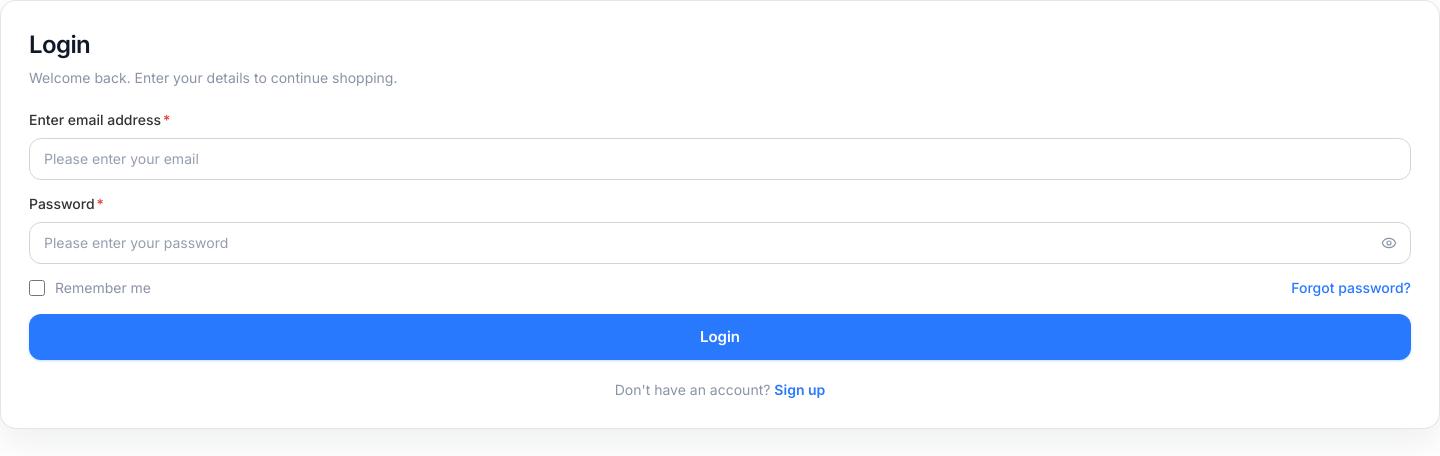
Test case: LoginForm › logs in successfully and updates auth store
Type "john@example.com" into the field labelled "Enter email address*" at (720, 159), box [29,138,1411,180]
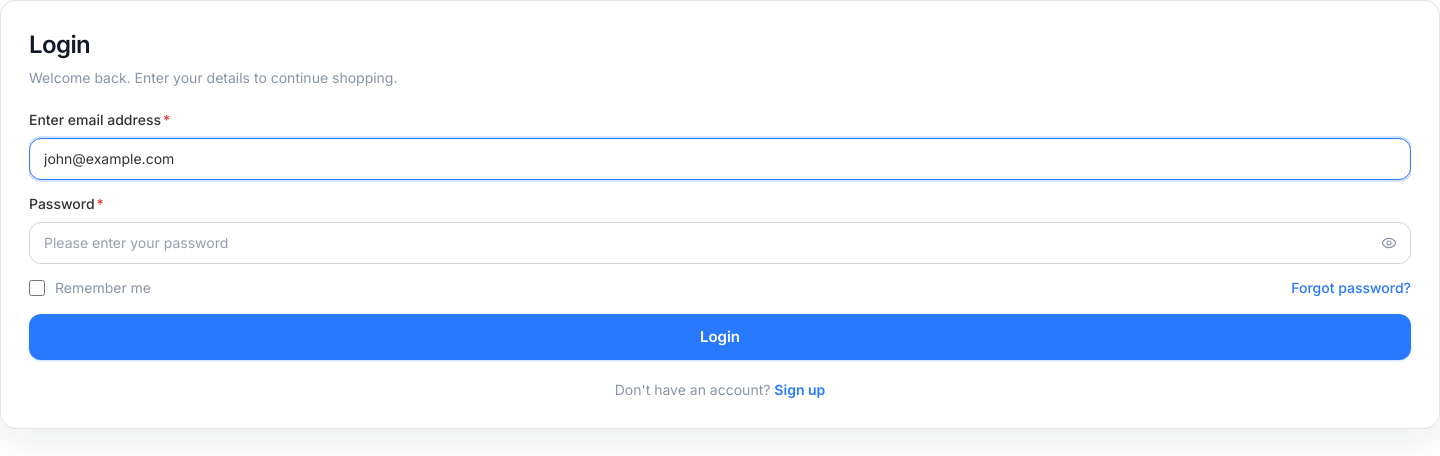
Type "SecurePass1!" into the password field with placeholder "Please enter your password" at (720, 243), box [29,222,1411,264]
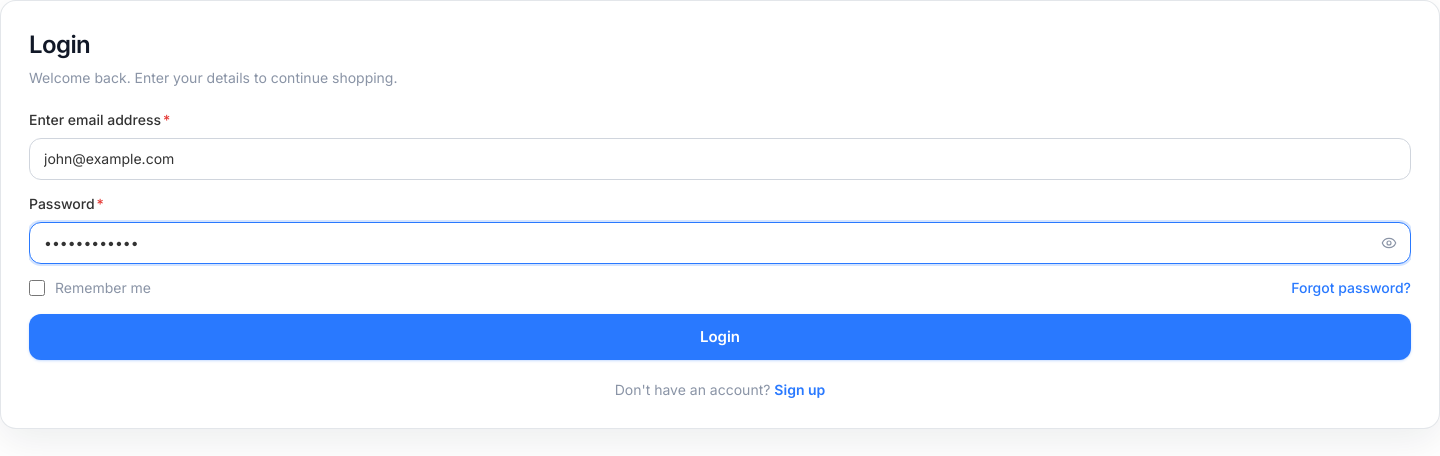
Click the button "Login" at (720, 337), box [29,314,1411,360]
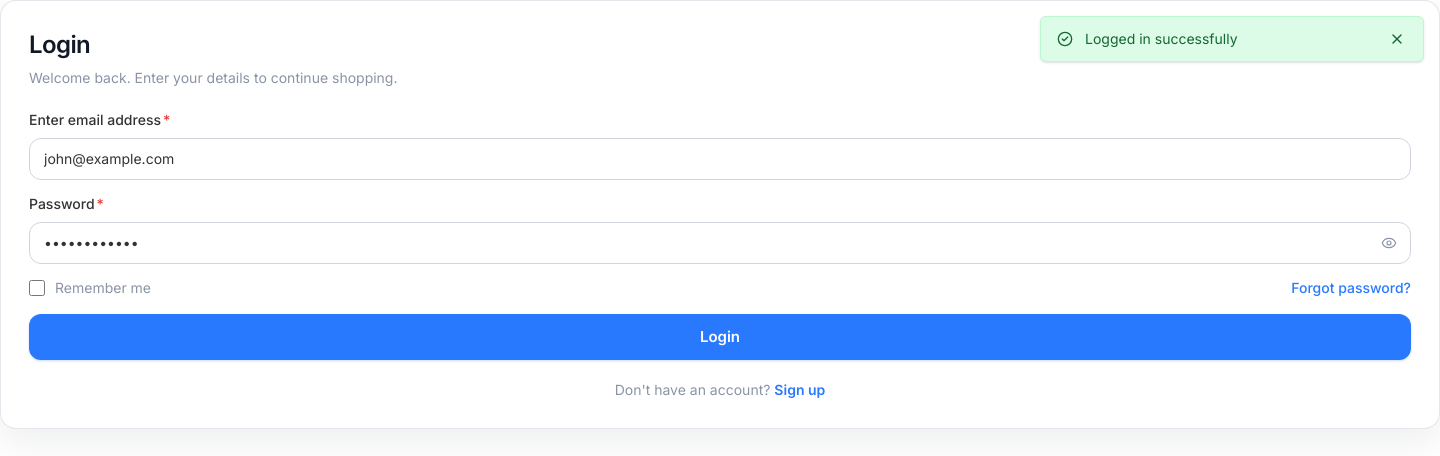
Check: the text "Logged in successfully" is shown, box [1085,30,1238,47]
